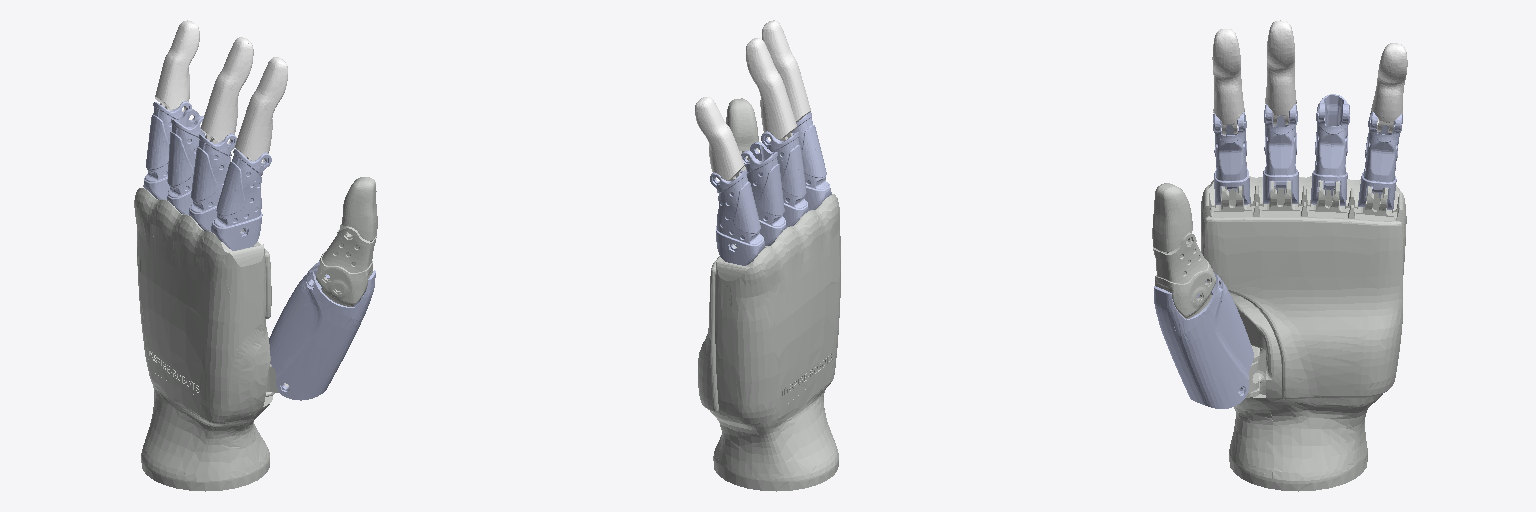
robot.urdf — inspire_hand_left:
<?xml version="1.0"?>
<robot
  name="inspire_hand_left">


  <!-- Create a new base frame for convenience, by LYW, 2019/11/22 -->
  <link name="left_hand_base">
    <!-- Add visual tag for calibration -->
    <!--visual>
      <origin xyz="0 0 -0.025" rpy="0 0 0" />
      <geometry>
        <cylinder radius="0.0279" length="0.05" /> <!- - diameter is 55.8 mm according to the technical specifics- ->
      </geometry>
    </visual-->
  </link>

  <!-- Fix frame of reference through solidworks measurement and manual calibration, by LYW, 2019/11/22 -->
  <joint name="link111_shift" type="fixed">
    <origin xyz="-0.00850 -0.0190 0.0404" rpy="3.1415 0 -1.5707" /> <!--0.00985 0.02039 0.0404-->
    <parent link="left_hand_base" />
    <child link="link111" />
  </joint>


  <link
    name="link111">
    <inertial>
      <origin
        xyz="-0.0211971496867713 -0.00980607468332059 -0.0291539210995797"
        rpy="0 0 0" />
      <mass
        value="0.226288892912552" />
      <inertia
        ixx="0.00025807950453196"
        ixy="-4.83159310640912E-06"
        ixz="7.9714751769554E-07"
        iyy="0.000358691949590454"
        iyz="3.73467589382574E-06"
        izz="0.000161017137787831" />
    </inertial>
    <visual>
      <origin
        xyz="0 0 0"
        rpy="0 0 0" />
      <geometry>
        <mesh
          filename="package://inspire_hand_description/meshes/left/link111.STL" />
      </geometry>
      <material
        name="">
        <color
          rgba="0.827450980392157 0.83921568627451 0.827450980392157 1" />
      </material>
    </visual>
    <collision>
      <origin
        xyz="0 0 0"
        rpy="0 0 0" />
      <geometry>
        <mesh
          filename="package://inspire_hand_description/meshes/left/link111.STL" />
      </geometry>
    </collision>
  </link>
  <link
    name="link1">
    <inertial>
      <origin
        xyz="0.0107728972114067 0.00213787716764519 -1.04416311069722E-07"
        rpy="0 0 0" />
      <mass
        value="0.00330630285835291" />
      <inertia
        ixx="1.55839473420917E-07"
        ixy="-3.78961194376192E-08"
        ixz="-3.77173039190185E-12"
        iyy="5.30393024372046E-07"
        iyz="-7.4062368302925E-13"
        izz="5.55170037339627E-07" />
    </inertial>
    <visual>
      <origin
        xyz="0 0 0"
        rpy="0 0 0" />
      <geometry>
        <mesh
          filename="package://inspire_hand_description/meshes/left/link1.STL" />
      </geometry>
      <material
        name="">
        <color
          rgba="0.792156862745098 0.819607843137255 0.933333333333333 1" />
      </material>
    </visual>
    <collision>
      <origin
        xyz="0 0 0"
        rpy="0 0 0" />
      <geometry>
        <mesh
          filename="package://inspire_hand_description/meshes/left/link1.STL" />
      </geometry>
    </collision>
  </link>
  <joint
    name="link1"
    type="revolute">
    <origin
      xyz="0.0068852 -0.0077547 -0.08206"
      rpy="-1.4604 1.2485 -1.466" />
    <parent
      link="link111" />
    <child
      link="link1" />
    <axis
      xyz="0 0 1" />
    <limit
      lower="-1.6"
      upper="0"
      effort="1"
      velocity="1" />
  </joint>
  <link
    name="link11">
    <inertial>
      <origin
        xyz="0.0190179143887291 0.00563447080965412 1.42999243835096E-08"
        rpy="0 0 0" />
      <mass
        value="0.00453366979354947" />
      <inertia
        ixx="8.56969401817861E-08"
        ixy="-3.6550236316683E-08"
        ixz="1.43626963228685E-12"
        iyy="7.5823333421962E-07"
        iyz="7.37235171817566E-13"
        izz="7.68832168975162E-07" />
    </inertial>
    <visual>
      <origin
        xyz="0 0 0"
        rpy="0 0 0" />
      <geometry>
        <mesh
          filename="package://inspire_hand_description/meshes/left/link11.STL" />
      </geometry>
      <material
        name="">
        <color
          rgba="1 1 1 1" />
      </material>
    </visual>
    <collision>
      <origin
        xyz="0 0 0"
        rpy="0 0 0" />
      <geometry>
        <mesh
          filename="package://inspire_hand_description/meshes/left/link11.STL" />
      </geometry>
    </collision>
  </link>
  <joint
    name="link11"
    type="revolute">
    <origin
      xyz="0.032132 0 0"
      rpy="-5.2101E-10 -2.8366E-11 -0.05439" />
    <parent
      link="link1" />
    <child
      link="link11" />
    <axis
      xyz="0 0 1" />
    <limit
      lower="-1.7"
      upper="0"
      effort="1"
      velocity="1" />
  </joint>
  <link
    name="link2">
    <inertial>
      <origin
        xyz="0.0107729848426235 0.00213783905889497 -1.15186638033338E-07"
        rpy="0 0 0" />
      <mass
        value="0.00330621735666597" />
      <inertia
        ixx="1.55837836898236E-07"
        ixy="-3.78957279466946E-08"
        ixz="-4.46779108562076E-12"
        iyy="5.30385092299547E-07"
        iyz="-1.06162548544094E-12"
        izz="5.5516472017082E-07" />
    </inertial>
    <visual>
      <origin
        xyz="0 0 0"
        rpy="0 0 0" />
      <geometry>
        <mesh
          filename="package://inspire_hand_description/meshes/left/link2.STL" />
      </geometry>
      <material
        name="">
        <color
          rgba="0.792156862745098 0.819607843137255 0.933333333333333 1" />
      </material>
    </visual>
    <collision>
      <origin
        xyz="0 0 0"
        rpy="0 0 0" />
      <geometry>
        <mesh
          filename="package://inspire_hand_description/meshes/left/link2.STL" />
      </geometry>
    </collision>
  </link>
  <joint
    name="link2"
    type="revolute">
    <origin
      xyz="-0.012436 -0.0077547 -0.082423"
      rpy="-1.5708 1.4093 -1.5708" />
    <parent
      link="link111" />
    <child
      link="link2" />
    <axis
      xyz="0 0 1" />
    <limit
      lower="-1.6"
      upper="0"
      effort="1"
      velocity="1" />
  </joint>
  <link
    name="link22">
    <inertial>
      <origin
        xyz="0.0190179449257988 0.00563447974623821 1.95695375043714E-08"
        rpy="0 0 0" />
      <mass
        value="0.00453367027223764" />
      <inertia
        ixx="8.56969657851684E-08"
        ixy="-3.655092334419E-08"
        ixz="1.59947670219807E-12"
        iyy="7.58233058731142E-07"
        iyz="6.82745605693632E-13"
        izz="7.68832058388577E-07" />
    </inertial>
    <visual>
      <origin
        xyz="0 0 0"
        rpy="0 0 0" />
      <geometry>
        <mesh
          filename="package://inspire_hand_description/meshes/left/link22.STL" />
      </geometry>
      <material
        name="">
        <color
          rgba="1 1 1 1" />
      </material>
    </visual>
    <collision>
      <origin
        xyz="0 0 0"
        rpy="0 0 0" />
      <geometry>
        <mesh
          filename="package://inspire_hand_description/meshes/left/link22.STL" />
      </geometry>
    </collision>
  </link>
  <joint
    name="link22"
    type="revolute">
    <origin
      xyz="0.032132 0 0"
      rpy="-5.0853E-10 -1.1686E-10 -0.22588" />
    <parent
      link="link2" />
    <child
      link="link22" />
    <axis
      xyz="0 0 1" />
    <limit
      lower="-1.7"
      upper="0"
      effort="1"
      velocity="1" />
  </joint>
  <link
    name="link3">
    <inertial>
      <origin
        xyz="0.0107730870011274 0.00213783984115729 -1.4434440405442E-07"
        rpy="0 0 0" />
      <mass
        value="0.00330616517571661" />
      <inertia
        ixx="1.55836709865158E-07"
        ixy="-3.78959914486162E-08"
        ixz="-4.87563626733582E-12"
        iyy="5.30380857158255E-07"
        iyz="-1.32040927550488E-12"
        izz="5.55162479884557E-07" />
    </inertial>
    <visual>
      <origin
        xyz="0 0 0"
        rpy="0 0 0" />
      <geometry>
        <mesh
          filename="package://inspire_hand_description/meshes/left/link3.STL" />
      </geometry>
      <material
        name="">
        <color
          rgba="0.792156862745098 0.819607843137255 0.933333333333333 1" />
      </material>
    </visual>
    <collision>
      <origin
        xyz="0 0 0"
        rpy="0 0 0" />
      <geometry>
        <mesh
          filename="package://inspire_hand_description/meshes/left/link3.STL" />
      </geometry>
    </collision>
  </link>
  <joint
    name="link3"
    type="revolute">
    <origin
      xyz="-0.031665 -0.0077547 -0.08192"
      rpy="-1.9857 1.4406 -1.9826" />
    <parent
      link="link111" />
    <child
      link="link3" />
    <axis
      xyz="0 0 1" />
    <limit
      lower="-1.6"
      upper="0"
      effort="1"
      velocity="1" />
  </joint>
  <link
    name="link33">
    <inertial>
      <origin
        xyz="0.0190179173374263 0.00563447812355383 2.17778843153438E-08"
        rpy="0 0 0" />
      <mass
        value="0.00453366946672897" />
      <inertia
        ixx="8.56969954123567E-08"
        ixy="-3.65502686172672E-08"
        ixz="1.914131820864E-12"
        iyy="7.58232390943582E-07"
        iyz="6.102905747127E-13"
        izz="7.68831206632801E-07" />
    </inertial>
    <visual>
      <origin
        xyz="0 0 0"
        rpy="0 0 0" />
      <geometry>
        <mesh
          filename="package://inspire_hand_description/meshes/left/link33.STL" />
      </geometry>
      <material
        name="">
        <color
          rgba="1 1 1 1" />
      </material>
    </visual>
    <collision>
      <origin
        xyz="0 0 0"
        rpy="0 0 0" />
      <geometry>
        <mesh
          filename="package://inspire_hand_description/meshes/left/link33.STL" />
      </geometry>
    </collision>
  </link>
  <joint
    name="link33"
    type="revolute">
    <origin
      xyz="0.032132 0 0"
      rpy="-5.0314E-10 -1.3824E-10 -0.26815" />
    <parent
      link="link3" />
    <child
      link="link33" />
    <axis
      xyz="0 0 1" />
    <limit
      lower="-1.7"
      upper="0"
      effort="1"
      velocity="1" />
  </joint>
  <link
    name="link4">
    <inertial>
      <origin
        xyz="0.0107728838996999 0.00213787812202321 -1.47685512180695E-07"
        rpy="0 0 0" />
      <mass
        value="0.00330630460851054" />
      <inertia
        ixx="1.55839834881808E-07"
        ixy="-3.78966413485388E-08"
        ixz="-5.46215465743034E-12"
        iyy="5.3039377562325E-07"
        iyz="-1.57695349654339E-12"
        izz="5.55171477054147E-07" />
    </inertial>
    <visual>
      <origin
        xyz="0 0 0"
        rpy="0 0 0" />
      <geometry>
        <mesh
          filename="package://inspire_hand_description/meshes/left/link4.STL" />
      </geometry>
      <material
        name="">
        <color
          rgba="0.792156862745098 0.819607843137255 0.933333333333333 1" />
      </material>
    </visual>
    <collision>
      <origin
        xyz="0 0 0"
        rpy="0 0 0" />
      <geometry>
        <mesh
          filename="package://inspire_hand_description/meshes/left/link4.STL" />
      </geometry>
    </collision>
  </link>
  <joint
    name="link4"
    type="revolute">
    <origin
      xyz="-0.050841 -0.0077547 -0.08041"
      rpy="-2.0186 1.327 -2.007" />
    <parent
      link="link111" />
    <child
      link="link4" />
    <axis
      xyz="0 0 1" />
    <limit
      lower="-1.6"
      upper="0"
      effort="1"
      velocity="1" />
  </joint>
  <link
    name="link44">
    <inertial>
      <origin
        xyz="0.0155924434001128 0.00555617869155978 -1.05483765444614E-07"
        rpy="0 0 0" />
      <mass
        value="0.00356888715893842" />
      <inertia
        ixx="6.67772840408144E-08"
        ixy="-2.70391833548355E-08"
        ixz="-3.26434716125092E-12"
        iyy="4.33419425101179E-07"
        iyz="-9.18888508148905E-13"
        izz="4.39763878420807E-07" />
    </inertial>
    <visual>
      <origin
        xyz="0 0 0"
        rpy="0 0 0" />
      <geometry>
        <mesh
          filename="package://inspire_hand_description/meshes/left/link44.STL" />
      </geometry>
      <material
        name="">
        <color
          rgba="1 1 1 1" />
      </material>
    </visual>
    <collision>
      <origin
        xyz="0 0 0"
        rpy="0 0 0" />
      <geometry>
        <mesh
          filename="package://inspire_hand_description/meshes/left/link44.STL" />
      </geometry>
    </collision>
  </link>
  <joint
    name="link44"
    type="revolute">
    <origin
      xyz="0.032132 0 0"
      rpy="-5.1334E-10 -9.3483E-11 -0.18013" />
    <parent
      link="link4" />
    <child
      link="link44" />
    <axis
      xyz="0 0 1" />
    <limit
      lower="-1.7"
      upper="0"
      effort="1"
      velocity="1" />
  </joint>
  <link
    name="link5">
    <inertial>
      <origin
        xyz="-0.00433166459951286 0.000656790554769388 -0.000486675184306562"
        rpy="0 0 0" />
      <mass
        value="0.00487393910083768" />
      <inertia
        ixx="1.30409345970056E-07"
        ixy="8.91998160729811E-09"
        ixz="1.76607007575074E-08"
        iyy="1.7058032498292E-07"
        iyz="-1.02771404037179E-09"
        izz="2.11710622768954E-07" />
    </inertial>
    <visual>
      <origin
        xyz="0 0 0"
        rpy="0 0 0" />
      <geometry>
        <mesh
          filename="package://inspire_hand_description/meshes/left/link5.STL" />
      </geometry>
      <material
        name="">
        <color
          rgba="0.827450980392157 0.83921568627451 0.827450980392157 1" />
      </material>
    </visual>
    <collision>
      <origin
        xyz="0 0 0"
        rpy="0 0 0" />
      <geometry>
        <mesh
          filename="package://inspire_hand_description/meshes/left/link5.STL" />
      </geometry>
    </collision>
  </link>
  <joint
    name="link5"
    type="revolute">
    <origin
      xyz="0.0010638 -0.025 -0.0059231"
      rpy="-1.5708 -2.455E-15 2.3555" />
    <parent
      link="link111" />
    <child
      link="link5" />
    <axis
      xyz="0 -1 0" />
    <limit
      lower="-1.0"
      upper="0.3"
      effort="1"
      velocity="1" />
  </joint>
  <link
    name="link51">
    <inertial>
      <origin
        xyz="0.0261736471642429 0.00353664240332538 -7.35522423800372E-08"
        rpy="0 0 0" />
      <mass
        value="0.00652741708580189" />
      <inertia
        ixx="8.93663478287007E-07"
        ixy="6.28882108303181E-08"
        ixz="-3.67789097092471E-11"
        iyy="2.37350868720489E-06"
        iyz="8.30149702319962E-12"
        izz="2.7502170955408E-06" />
    </inertial>
    <visual>
      <origin
        xyz="0 0 0"
        rpy="0 0 0" />
      <geometry>
        <mesh
          filename="package://inspire_hand_description/meshes/left/link51.STL" />
      </geometry>
      <material
        name="">
        <color
          rgba="0.792156862745098 0.819607843137255 0.933333333333333 1" />
      </material>
    </visual>
    <collision>
      <origin
        xyz="0 0 0"
        rpy="0 0 0" />
      <geometry>
        <mesh
          filename="package://inspire_hand_description/meshes/left/link51.STL" />
      </geometry>
    </collision>
  </link>
  <joint
    name="link51"
    type="revolute">
    <origin
      xyz="-0.0115 -0.00075 0"
      rpy="-1.4988E-15 -5.5511E-17 1.8988" />
    <parent
      link="link5" />
    <child
      link="link51" />
    <axis
      xyz="0 0 -1" />
    <limit
      lower="0"
      upper="0.4"
      effort="1"
      velocity="1" />
  </joint>
  <link
    name="link52">
    <inertial>
      <origin
        xyz="-0.00731595394729753 -0.00552216810488045 1.31327036717588E-07"
        rpy="0 0 0" />
      <mass
        value="0.00226947954597765" />
      <inertia
        ixx="1.72809908882086E-07"
        ixy="4.52296648937248E-08"
        ixz="-3.78399670014347E-12"
        iyy="2.78044490402836E-07"
        iyz="1.5225345233066E-13"
        izz="2.99628844053565E-07" />
    </inertial>
    <visual>
      <origin
        xyz="0 0 0"
        rpy="0 0 0" />
      <geometry>
        <mesh
          filename="package://inspire_hand_description/meshes/left/link52.STL" />
      </geometry>
      <material
        name="">
        <color
          rgba="0.827450980392157 0.83921568627451 0.827450980392157 1" />
      </material>
    </visual>
    <collision>
      <origin
        xyz="0 0 0"
        rpy="0 0 0" />
      <geometry>
        <mesh
          filename="package://inspire_hand_description/meshes/left/link52.STL" />
      </geometry>
    </collision>
  </link>
  <joint
    name="link52"
    type="revolute">
    <origin
      xyz="0.056001 0 0"
      rpy="-1.3323E-15 -2.7756E-17 -3.0416" />
    <parent
      link="link51" />
    <child
      link="link52" />
    <axis
      xyz="0 0 1" />
    <limit
      lower="-0.4"
      upper="0"
      effort="1"
      velocity="1" />
  </joint>
  <link
    name="link53">
    <inertial>
      <origin
        xyz="0.0104629360450728 0.00192820283562468 -3.38351464429509E-06"
        rpy="0 0 0" />
      <mass
        value="0.00330869122519449" />
      <inertia
        ixx="8.21794532311926E-08"
        ixy="1.14153196955289E-08"
        ixz="-1.49218673904795E-10"
        iyy="1.90093466236439E-07"
        iyz="3.77060351806357E-11"
        izz="1.96169077984371E-07" />
    </inertial>
    <visual>
      <origin
        xyz="0 0 0"
        rpy="0 0 0" />
      <geometry>
        <mesh
          filename="package://inspire_hand_description/meshes/left/link53.STL" />
      </geometry>
      <material
        name="">
        <color
          rgba="0.827450980392157 0.83921568627451 0.827450980392157 1" />
      </material>
    </visual>
    <collision>
      <origin
        xyz="0 0 0"
        rpy="0 0 0" />
      <geometry>
        <mesh
          filename="package://inspire_hand_description/meshes/left/link53.STL" />
      </geometry>
    </collision>
  </link>
  <joint
    name="link53"
    type="revolute">
    <origin
      xyz="-0.022653 0 0"
      rpy="1.2712E-14 -9.7145E-17 2.856" />
    <parent
      link="link52" />
    <child
      link="link53" />
    <axis
      xyz="0 0 1" />
    <limit
      lower="-1"
      upper="0"
      effort="1"
      velocity="1" />
  </joint>
</robot>

--- Render facts (derived) ---
Views: 3 orthographic renders of the robot side by side, from view 1: azimuth 30°, elevation 25°; view 2: azimuth 150°, elevation 25°; view 3: azimuth 270°, elevation 25°.
Model inspire_hand_left with 14 links and 13 joints (12 revolute, 1 fixed), rooted at left_hand_base, posed all joints at 0.
Visible links, largest first — view 1: link111, link51, link1, link52, link22, link11, link2, link3, link44, link4, link53; view 2: link111, link4, link22, link3, link44, link2, link11, link1, link53; view 3: link111, link51, link52, link3, link2, link11, link22, link4, link1, link44, link53.
Link boxes in pixels (left/top/right/bottom): link111: left=134, top=188, right=274, bottom=491; link51: left=269, top=261, right=375, bottom=400; link1: left=211, top=149, right=271, bottom=250; link52: left=316, top=226, right=376, bottom=306; link22: left=201, top=37, right=253, bottom=143; link11: left=235, top=57, right=287, bottom=162; link2: left=189, top=133, right=236, bottom=230; link3: left=167, top=109, right=204, bottom=214; link44: left=155, top=20, right=199, bottom=111; link4: left=143, top=101, right=191, bottom=199; link53: left=339, top=177, right=377, bottom=240; link111: left=698, top=194, right=840, bottom=491; link4: left=710, top=170, right=764, bottom=265; link22: left=746, top=38, right=796, bottom=140; link3: left=741, top=142, right=786, bottom=245; link44: left=695, top=97, right=744, bottom=180; link2: left=761, top=131, right=808, bottom=226; link11: left=762, top=20, right=810, bottom=122; link1: left=792, top=112, right=831, bottom=210; link53: left=726, top=98, right=758, bottom=160; link111: left=1201, top=176, right=1406, bottom=491; link51: left=1154, top=273, right=1253, bottom=408; link52: left=1153, top=232, right=1215, bottom=318; link3: left=1311, top=94, right=1349, bottom=205; link2: left=1263, top=104, right=1298, bottom=203; link11: left=1212, top=29, right=1244, bottom=134; link22: left=1265, top=20, right=1296, bottom=124; link4: left=1358, top=111, right=1402, bottom=209; link1: left=1213, top=112, right=1250, bottom=204; link44: left=1371, top=43, right=1407, bottom=132; link53: left=1152, top=183, right=1192, bottom=253.
Bounding box of the posed robot: 0.0817 × 0.1009 × 0.199 m (x, y, z).
Meshes: 13 distinct files referenced, 12 mesh visuals loaded (12 binary STL); not drawn: 1 (reference not matched to a file when rendering).
